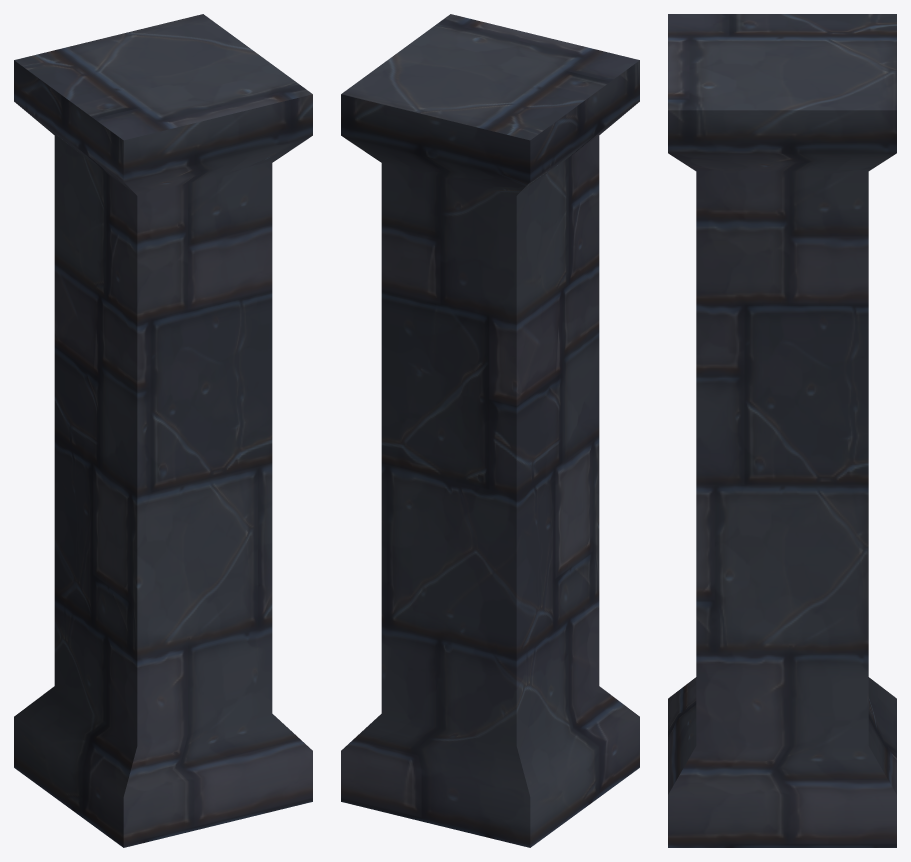
Rendered from Dungeon_Pillar_001.fbx.
The picture shows the model from 3 angles, left to right: view 1: azimuth 30°, elevation 25°; view 2: azimuth 150°, elevation 25°; view 3: azimuth 270°, elevation 25°; orthographic projection. The views are drawn at different scales.
Parts seen in each view (by area): view 1: Dungeon_Pillar_001; view 2: Dungeon_Pillar_001; view 3: Dungeon_Pillar_001.
Boxes of the visible parts, left/top/right/bottom form: Dungeon_Pillar_001: left=14, top=14, right=312, bottom=847; Dungeon_Pillar_001: left=341, top=14, right=639, bottom=847; Dungeon_Pillar_001: left=668, top=14, right=896, bottom=847.
Bounding box in the file's own units: 1.4 × 5 × 1.41.
1 material, 1 textured.
